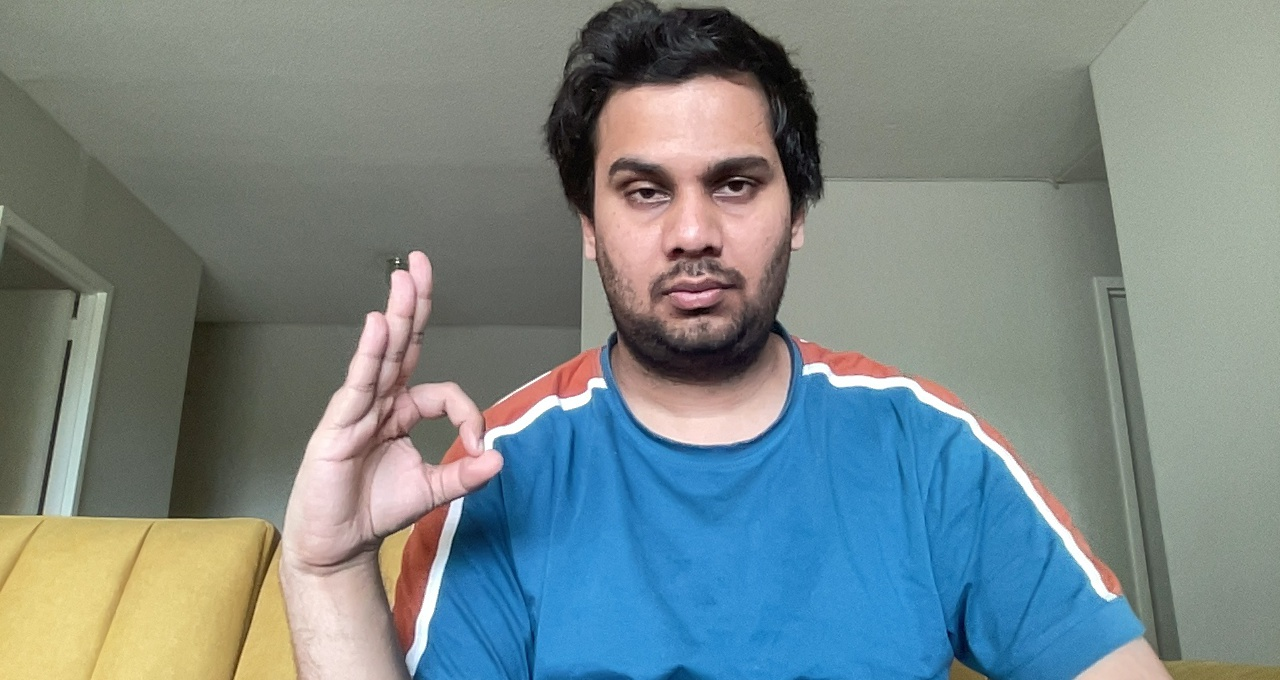ok: (296, 247, 514, 582)
